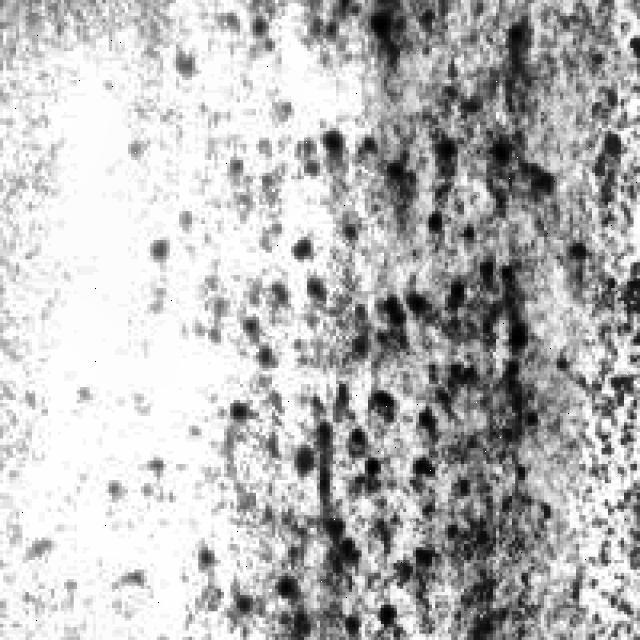Rolled_in_Scale: (182, 0, 557, 605)
